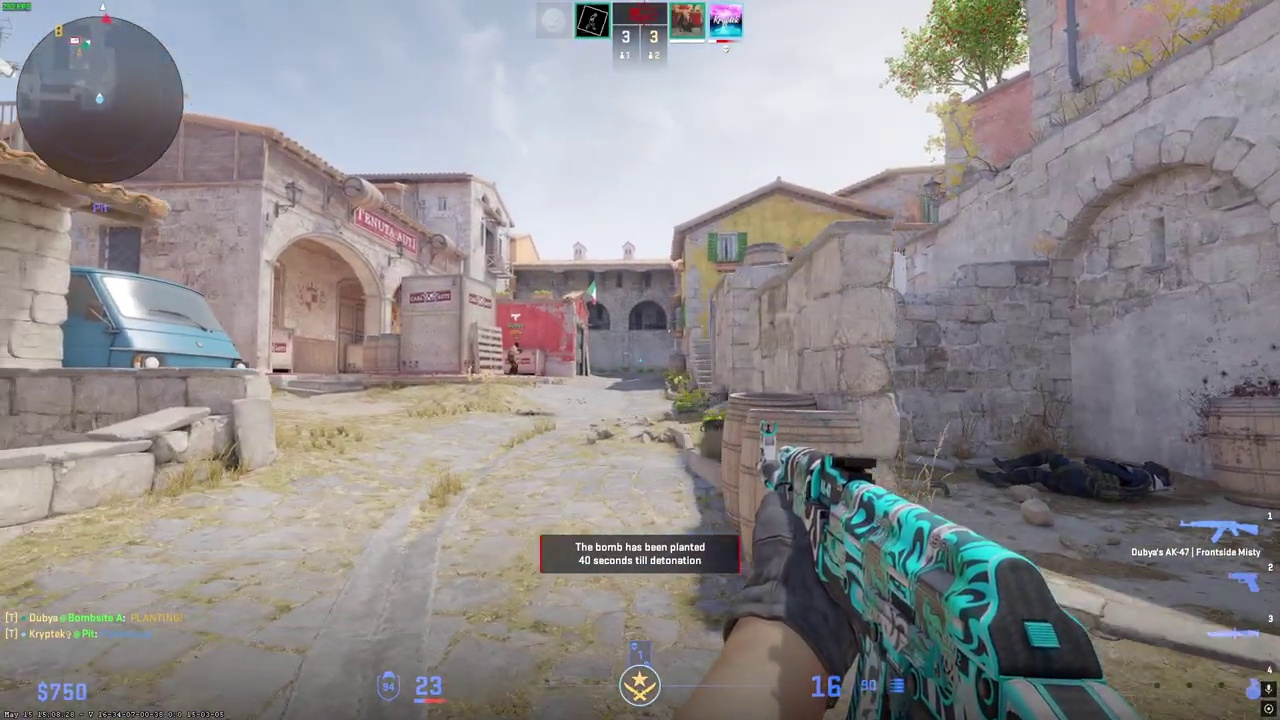Terrorist: (506, 342, 522, 375)
